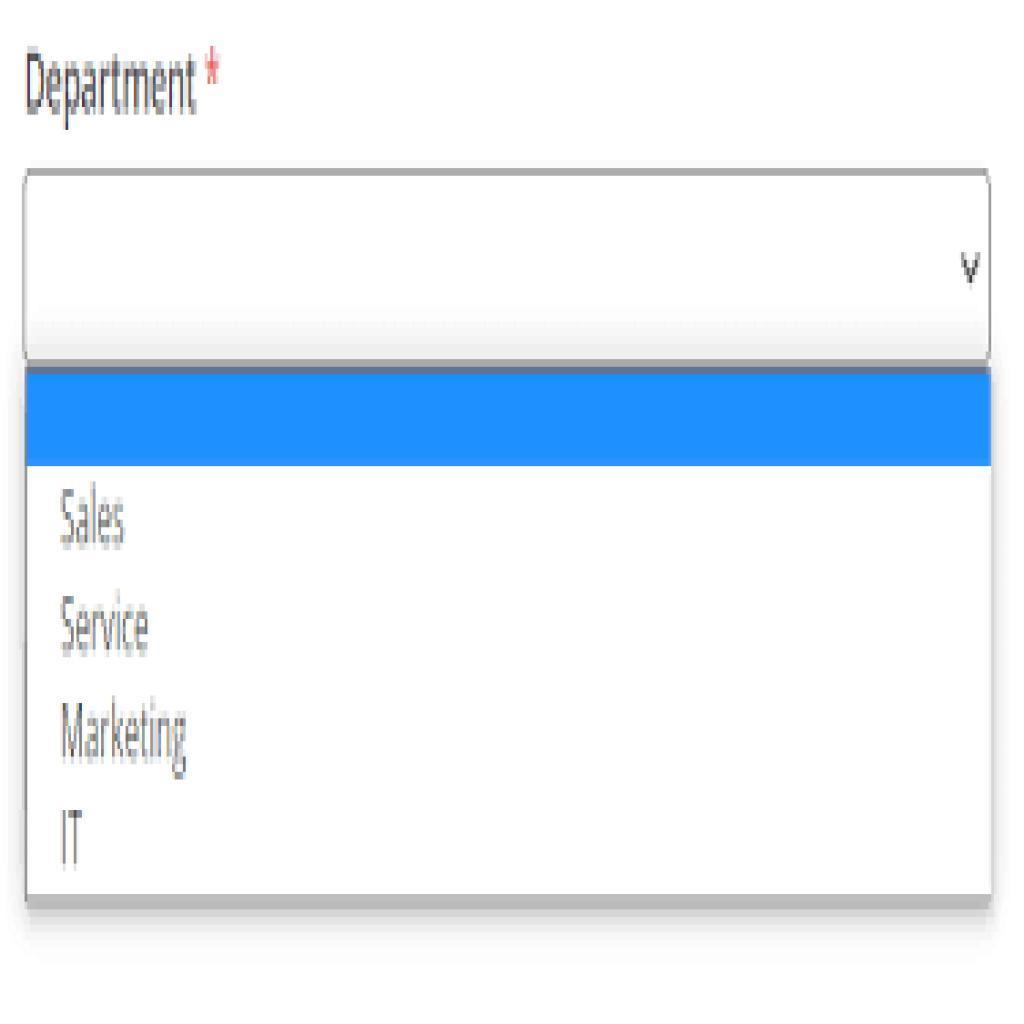dropdown: (26, 174, 988, 364)
